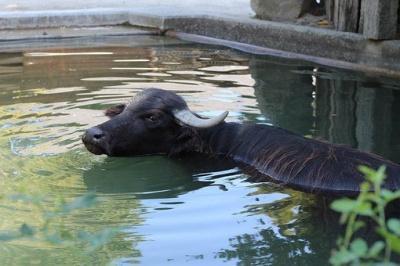buffalo: (82, 88, 399, 195)
